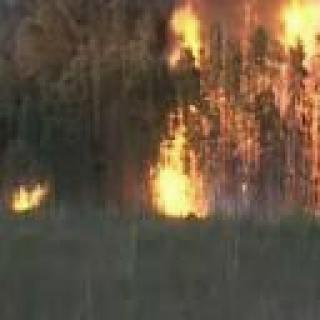fire: (141, 0, 320, 207), (1, 170, 56, 215)
